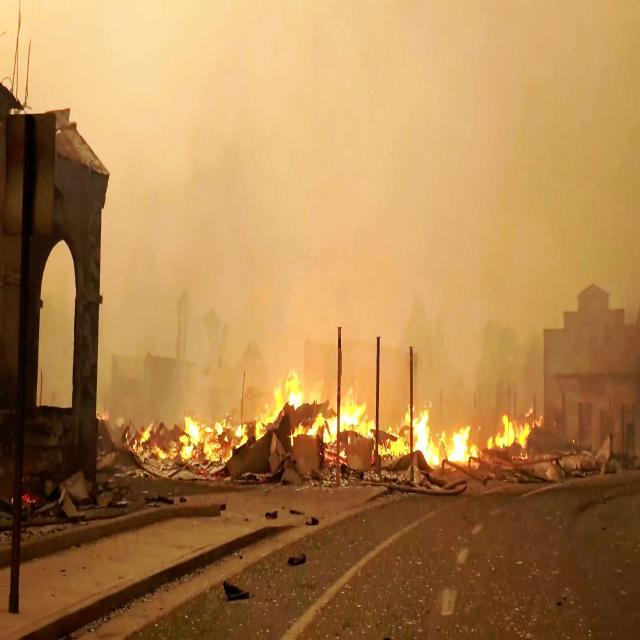Fire: (121, 363, 552, 488)
Smoke: (108, 2, 640, 362)
